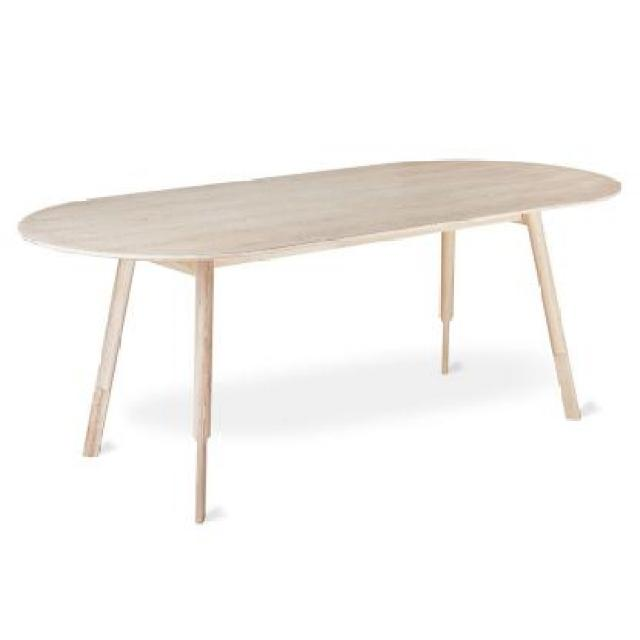table: (11, 158, 624, 520)
